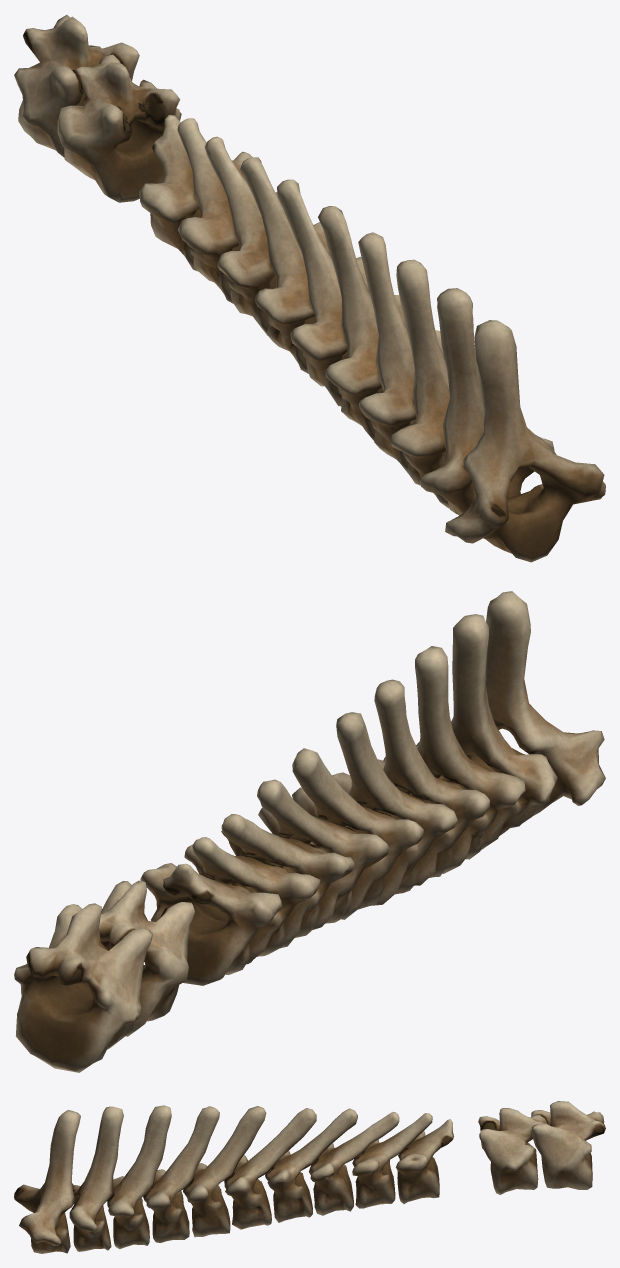
File: Thoracic_Vertebrae.glb
The picture shows the model from 3 angles, top to bottom: view 1: azimuth 30°, elevation 25°; view 2: azimuth 150°, elevation 25°; view 3: azimuth 270°, elevation 25°; orthographic projection. The views are drawn at different scales.
Parts seen in each view (by area): view 1: Thoracic_Vertebrae1:Group14434; view 2: Thoracic_Vertebrae1:Group14434; view 3: Thoracic_Vertebrae1:Group14434.
Part boxes in pixels (x1,y1,x2,y2): Thoracic_Vertebrae1:Group14434: [14, 15, 605, 562]; Thoracic_Vertebrae1:Group14434: [14, 591, 605, 1072]; Thoracic_Vertebrae1:Group14434: [14, 1101, 605, 1253].
Size of the model in its own units: 35.89 by 51.95 by 196.
Materials: 1 (1 with a texture image).
